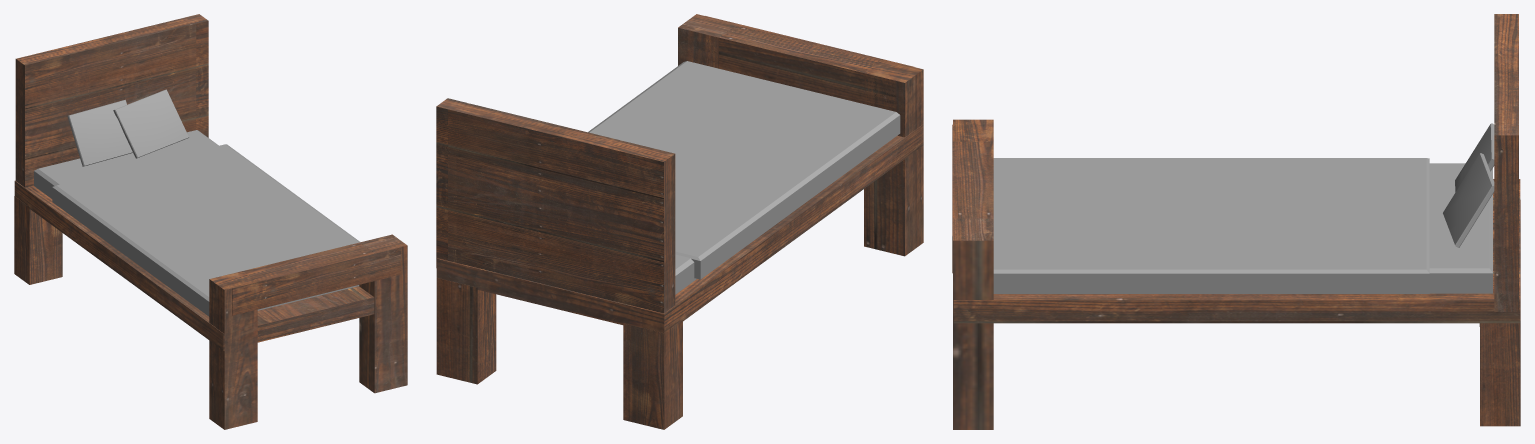
Rendered from Bed_Wood_001.fbx.
The picture shows the model from 3 angles, left to right: view 1: azimuth 30°, elevation 25°; view 2: azimuth 150°, elevation 25°; view 3: azimuth 270°, elevation 25°; orthographic projection. The views are drawn at different scales.
Visible parts, largest first — view 1: Bed_Wood_001; view 2: Bed_Wood_001; view 3: Bed_Wood_001.
Boxes of the visible parts, x1,y1,x2,y2 form: Bed_Wood_001: (14, 14, 407, 429); Bed_Wood_001: (436, 14, 923, 429); Bed_Wood_001: (952, 14, 1520, 429).
Bounding box in the file's own units: 127 × 144 × 251.
